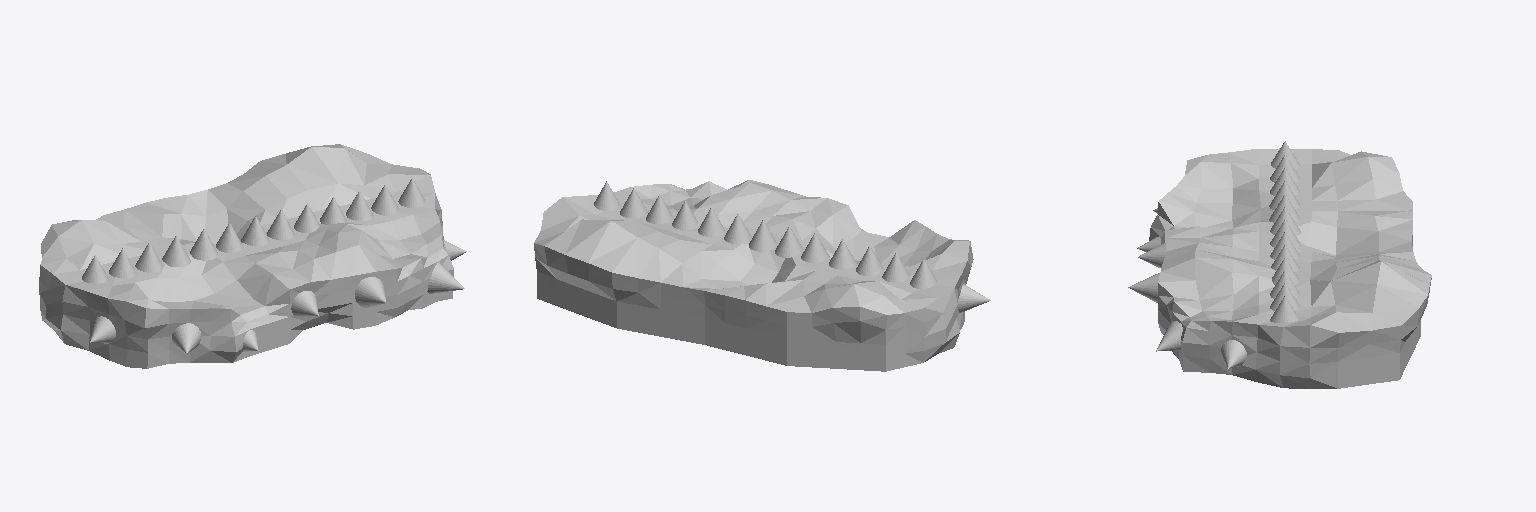
The model's file is DangerGround.obj.
3 renders of one model, left to right at view 1: azimuth 30°, elevation 25°; view 2: azimuth 150°, elevation 25°; view 3: azimuth 270°, elevation 25°, orthographic.
Parts seen in each view (by area): view 1: 平面.001; view 2: 平面.001; view 3: 平面.001.
Part boxes in pixels (x1,y1,x2,y2): 平面.001: (39, 144, 466, 368); 平面.001: (534, 180, 990, 371); 平面.001: (1128, 141, 1431, 388).
Size of the model in its own units: 3.94 by 0.8997 by 2.67.